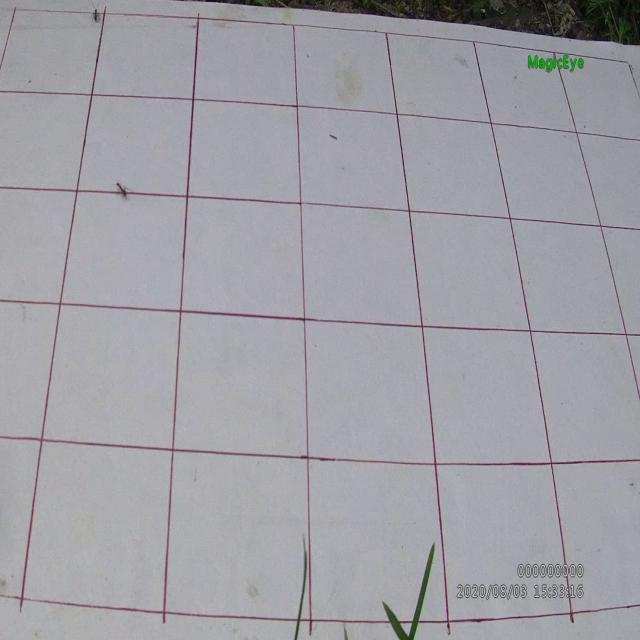Ant: (89, 1, 102, 28), (112, 182, 130, 198)
